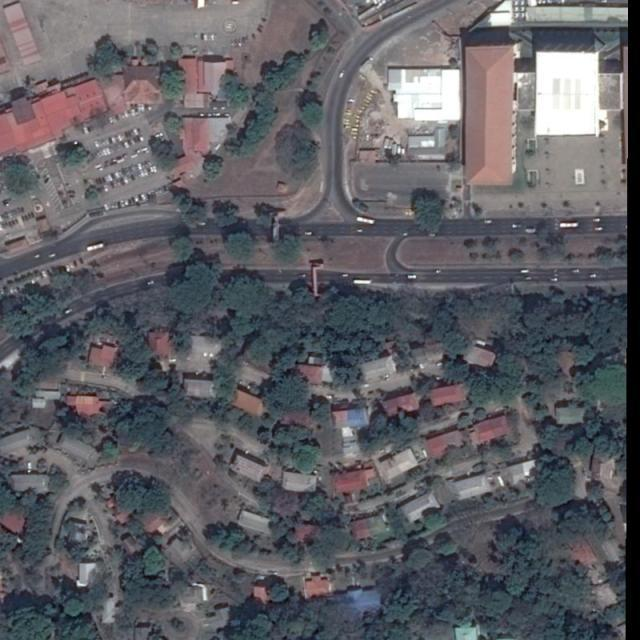vehicle: (88, 242, 106, 251), (357, 217, 374, 226), (560, 224, 577, 229), (355, 280, 370, 283)
